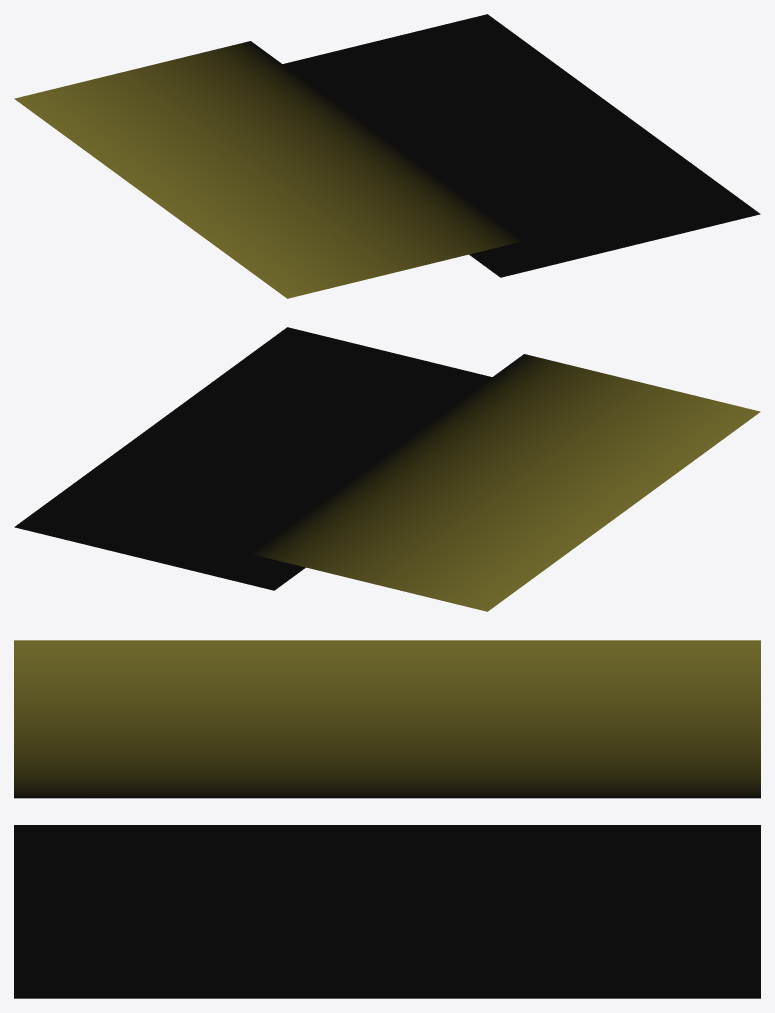
The picture shows the model from 3 angles, top to bottom: view 1: azimuth 30°, elevation 25°; view 2: azimuth 150°, elevation 25°; view 3: azimuth 270°, elevation 25°; orthographic projection. The views are drawn at different scales.
Size of the model in its own units: 1 by 0.0625 by 1.
1 material, 1 textured.
